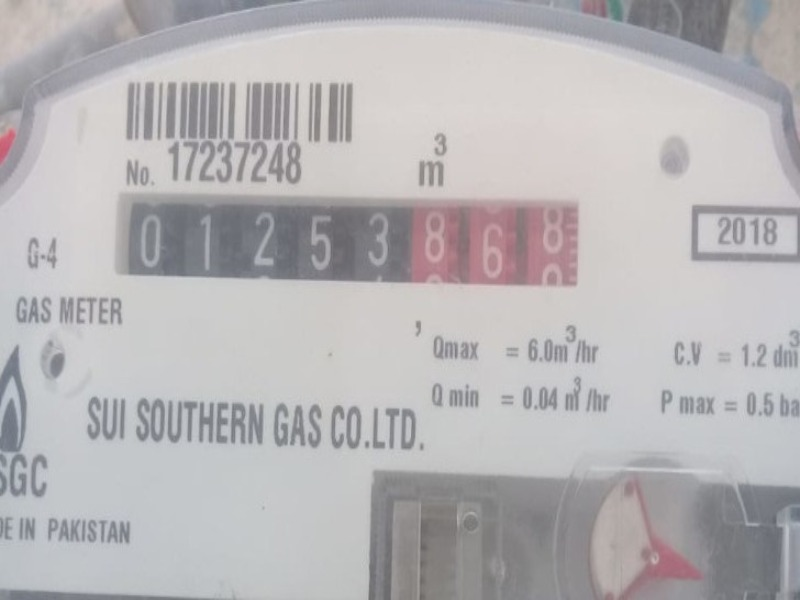ssgc: (110, 192, 584, 292)
